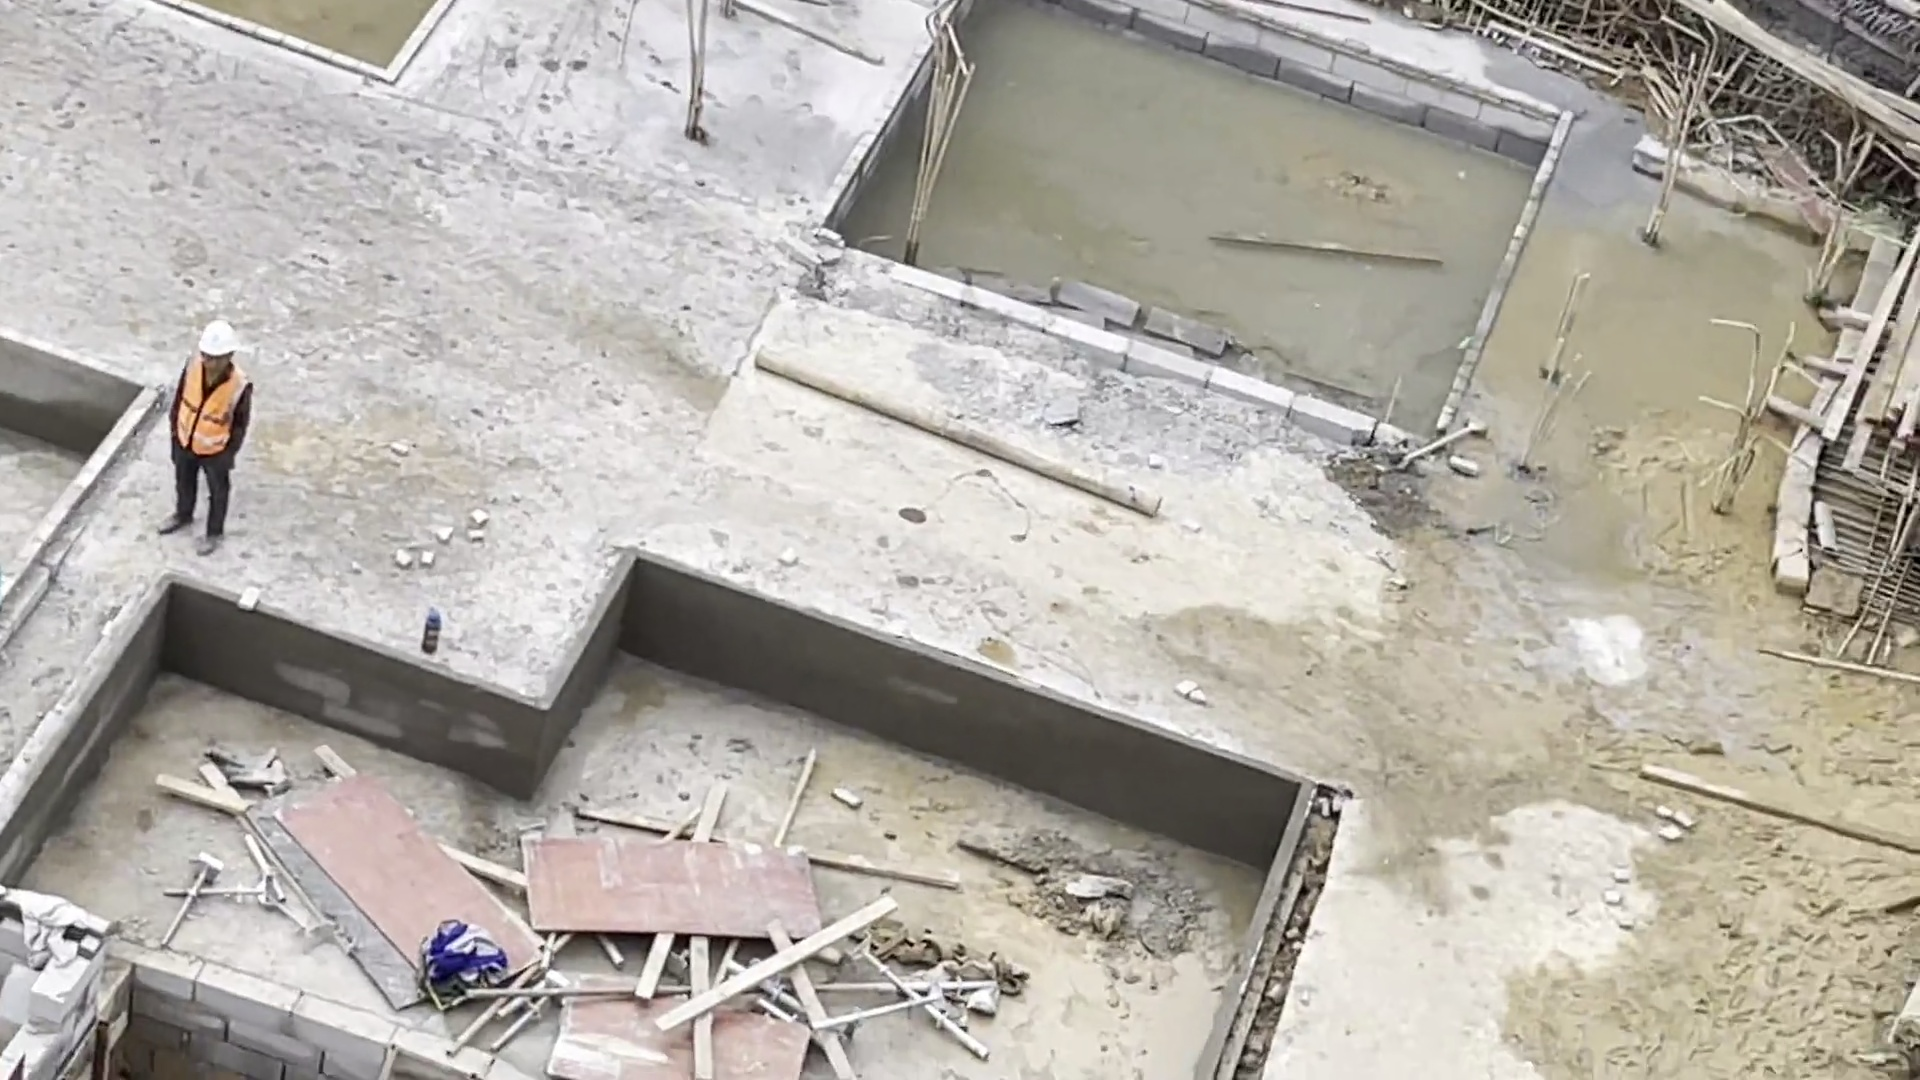helmet: (198, 318, 241, 361)
person: (155, 319, 255, 557)
vest: (177, 361, 251, 450)
